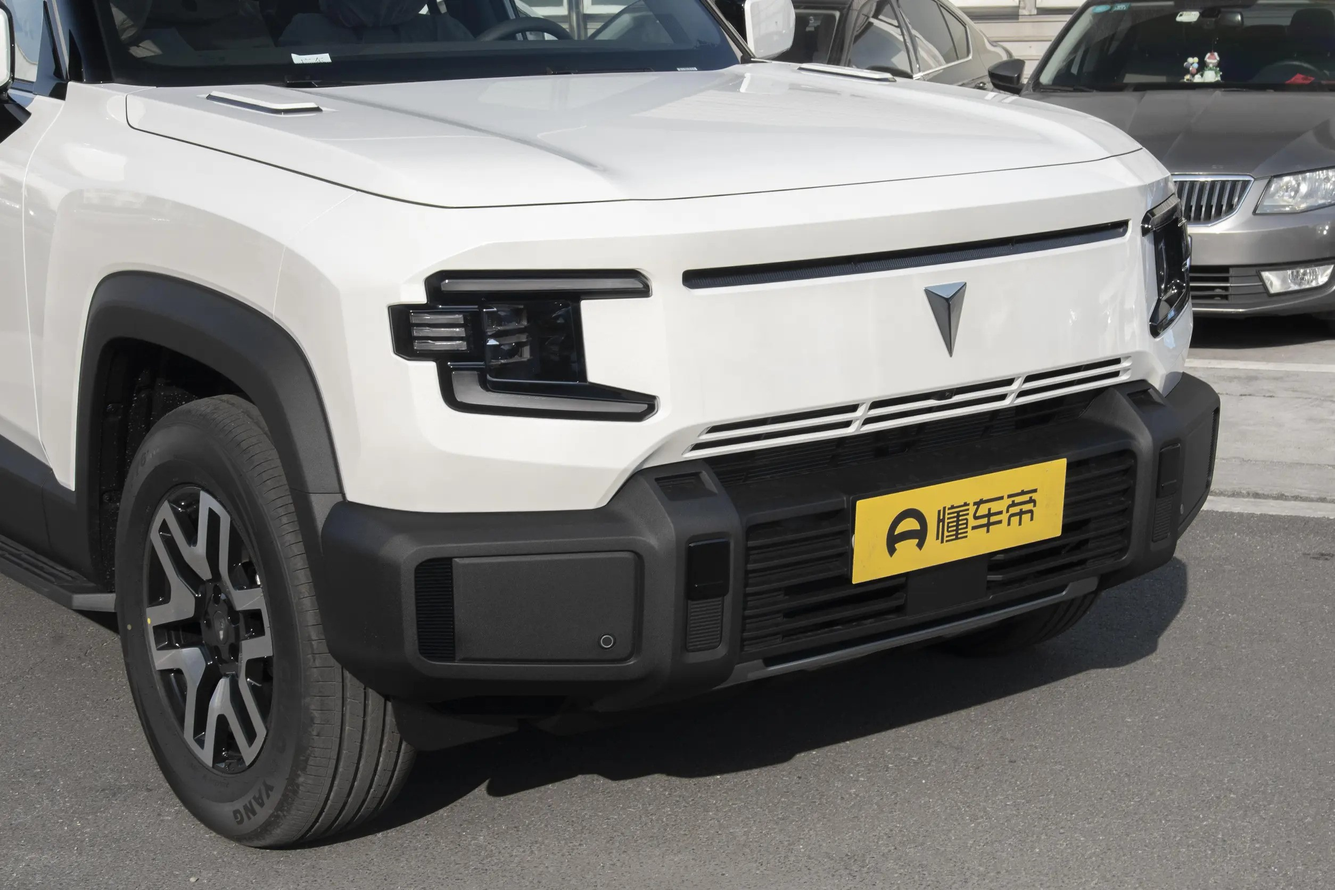Deepal: (925, 282, 966, 357)
